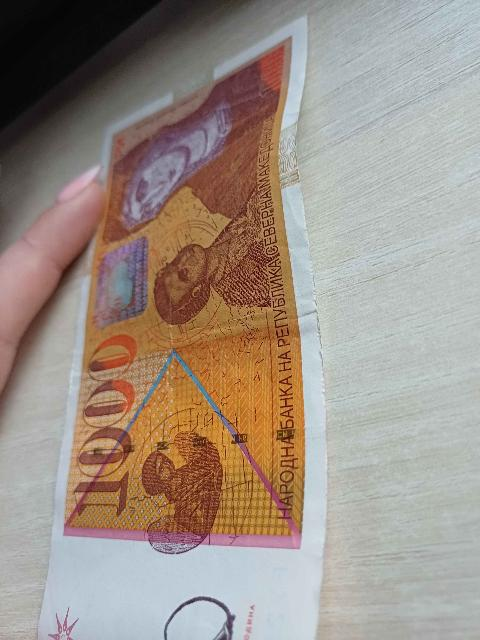1000_note: (24, 10, 331, 639)
